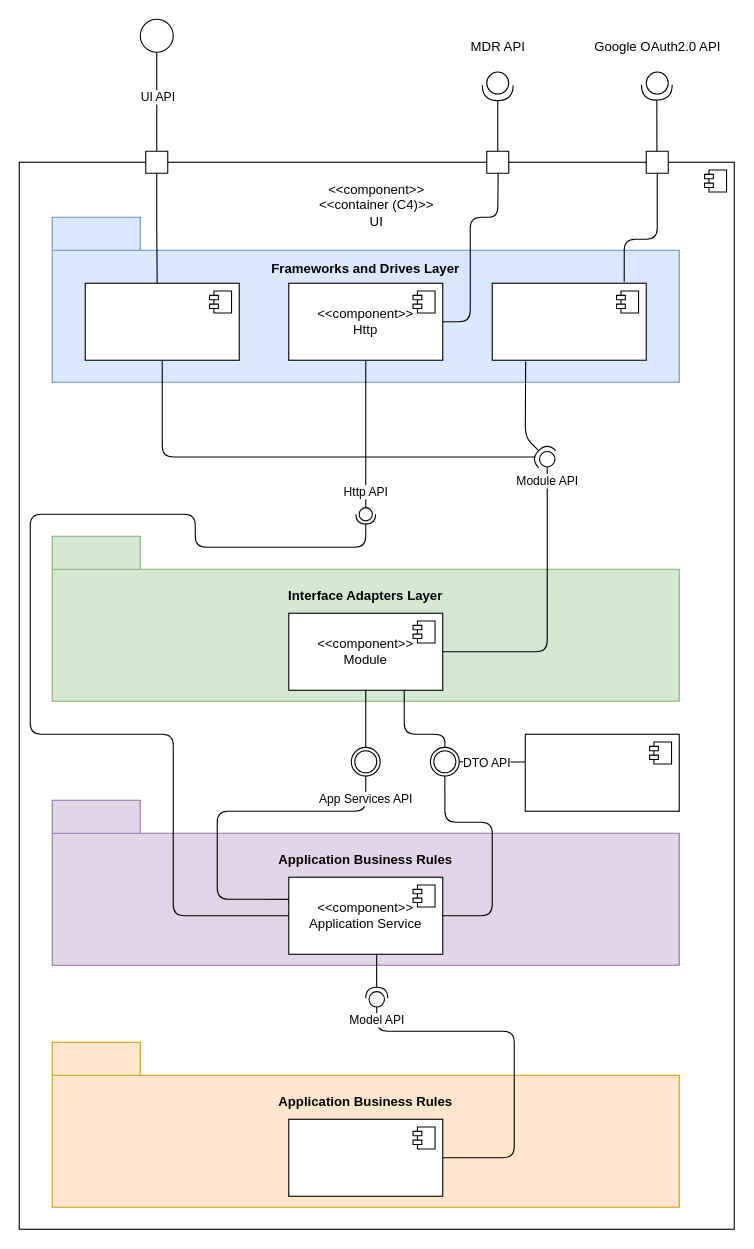
The diagram is 754 pixels wide and 1249 high, and some of its shapes have lost their labels. Here are the shapes that lost their labels. From the top down, the centre of each, then its label:
At (161,321): "<<component>> Routing".
At (568,321): "<<component>> Component".
At (601,772): "<<component>> DTO".
At (365,1157): "<<component>> Domain Model (DDD)".
